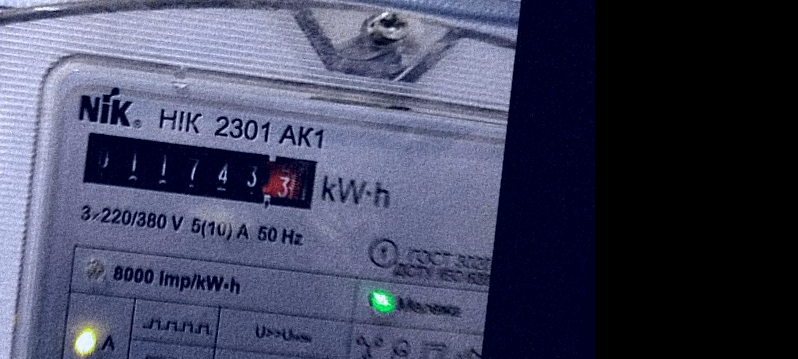0: (95, 142, 112, 171)
1: (156, 149, 171, 178), (127, 145, 140, 173)
3: (244, 161, 261, 190), (274, 174, 290, 200)
4: (214, 158, 231, 186)
7: (184, 152, 202, 181)
screen: (70, 120, 330, 222)
